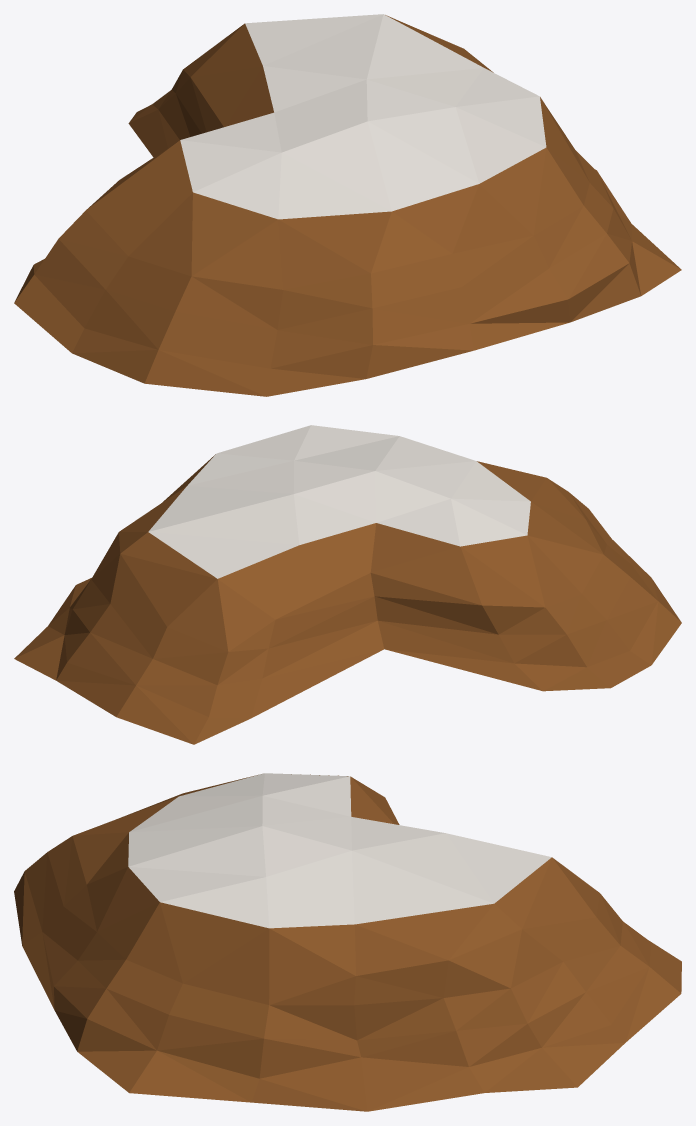
Rendered from relief_7.fbx.
3 views of the same model, one above another, from view 1: azimuth 30°, elevation 25°; view 2: azimuth 150°, elevation 25°; view 3: azimuth 270°, elevation 25° (orthographic). The views are drawn at different scales.
Visible parts, largest first — view 1: Icosphere.054; view 2: Icosphere.054; view 3: Icosphere.054.
Boxes of the visible parts, left/top/right/bottom form: Icosphere.054: left=14, top=14, right=681, bottom=396; Icosphere.054: left=14, top=425, right=681, bottom=744; Icosphere.054: left=14, top=773, right=681, bottom=1111.
Bounding box in the file's own units: 1170 × 303 × 1184.
